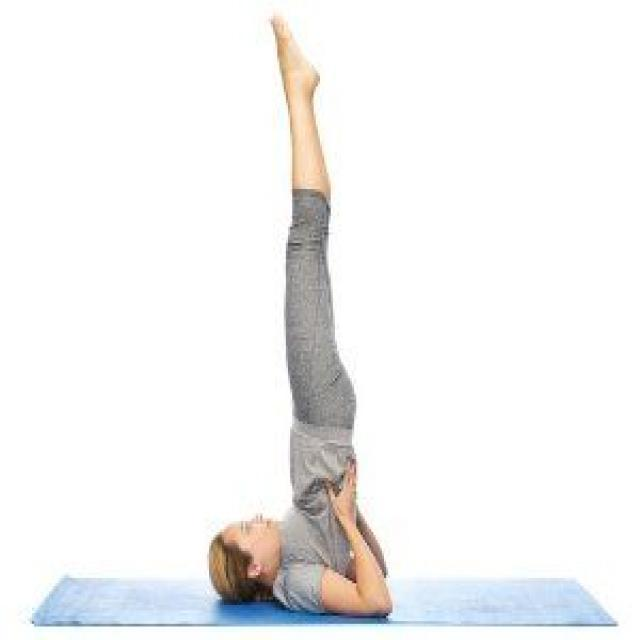yoga-pose shoulderstand: (213, 12, 398, 618)
